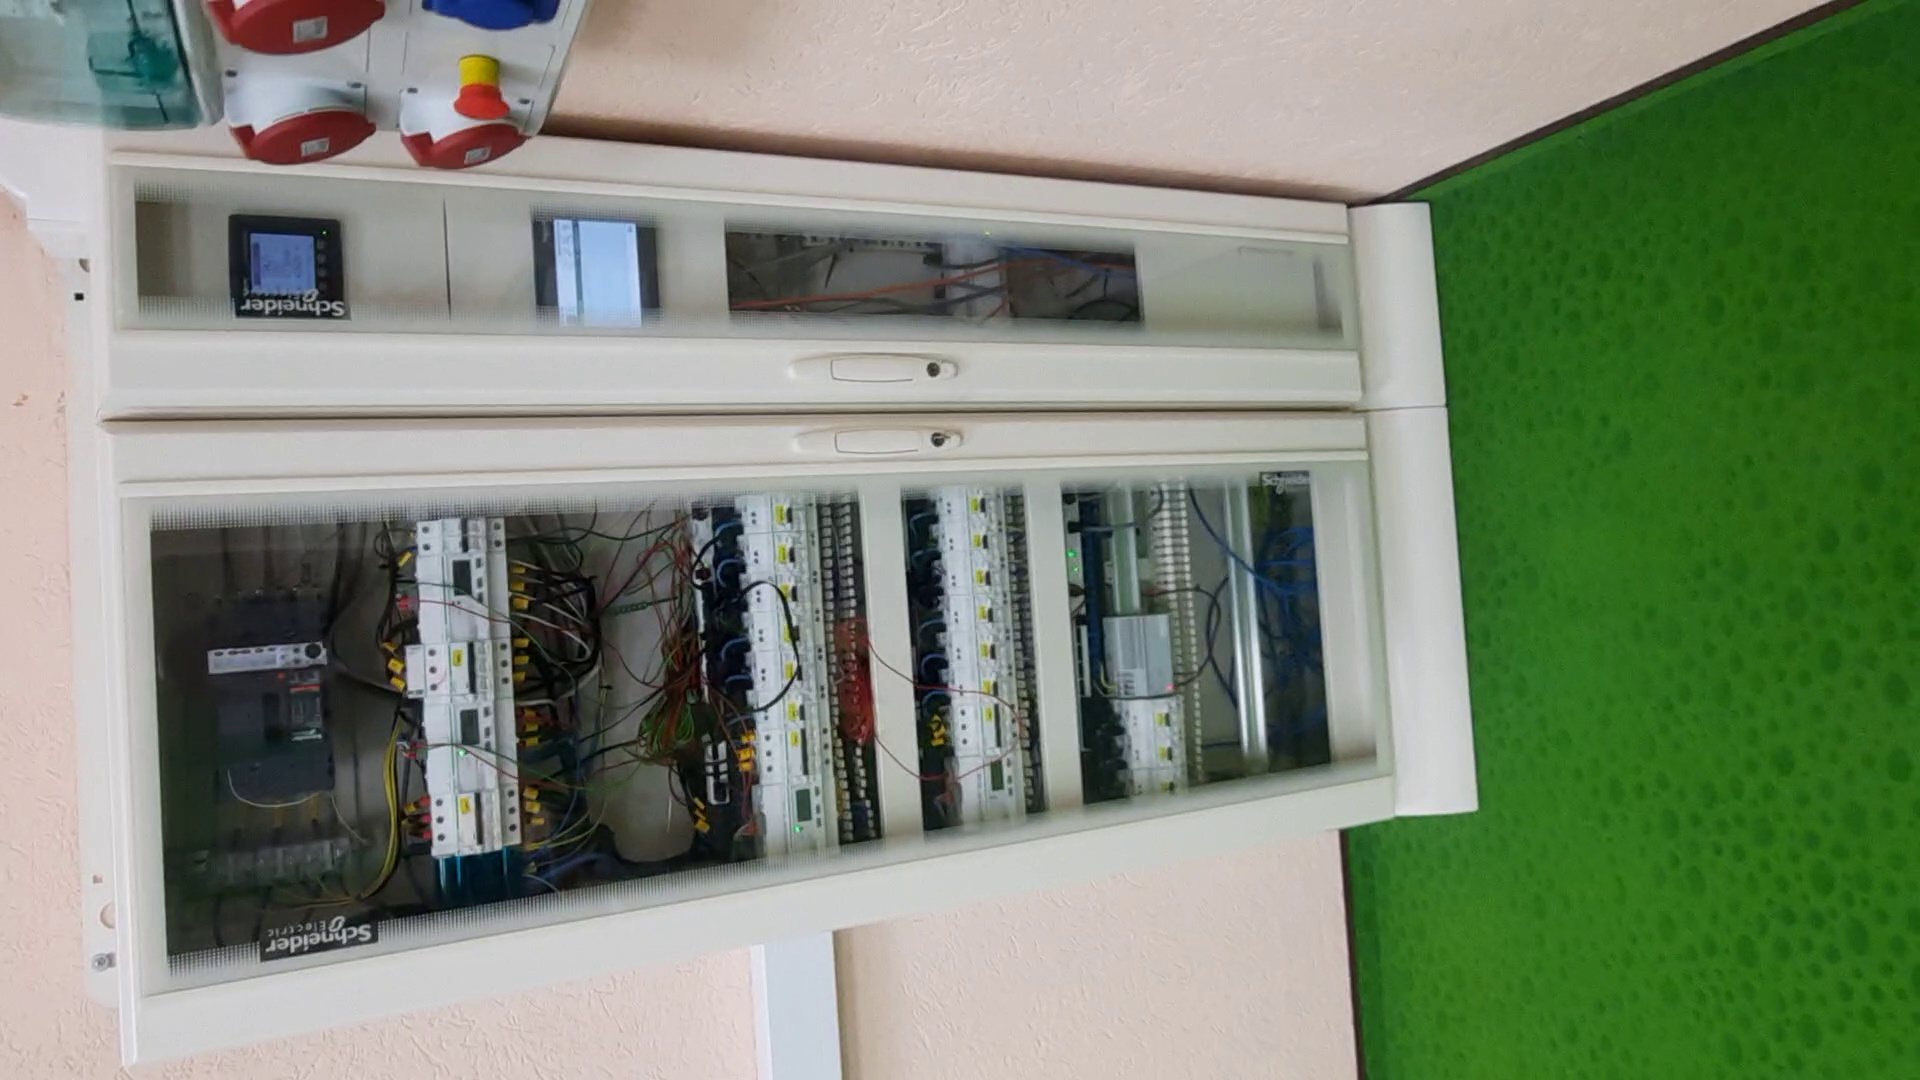stand1: (92, 135, 1495, 1039)
